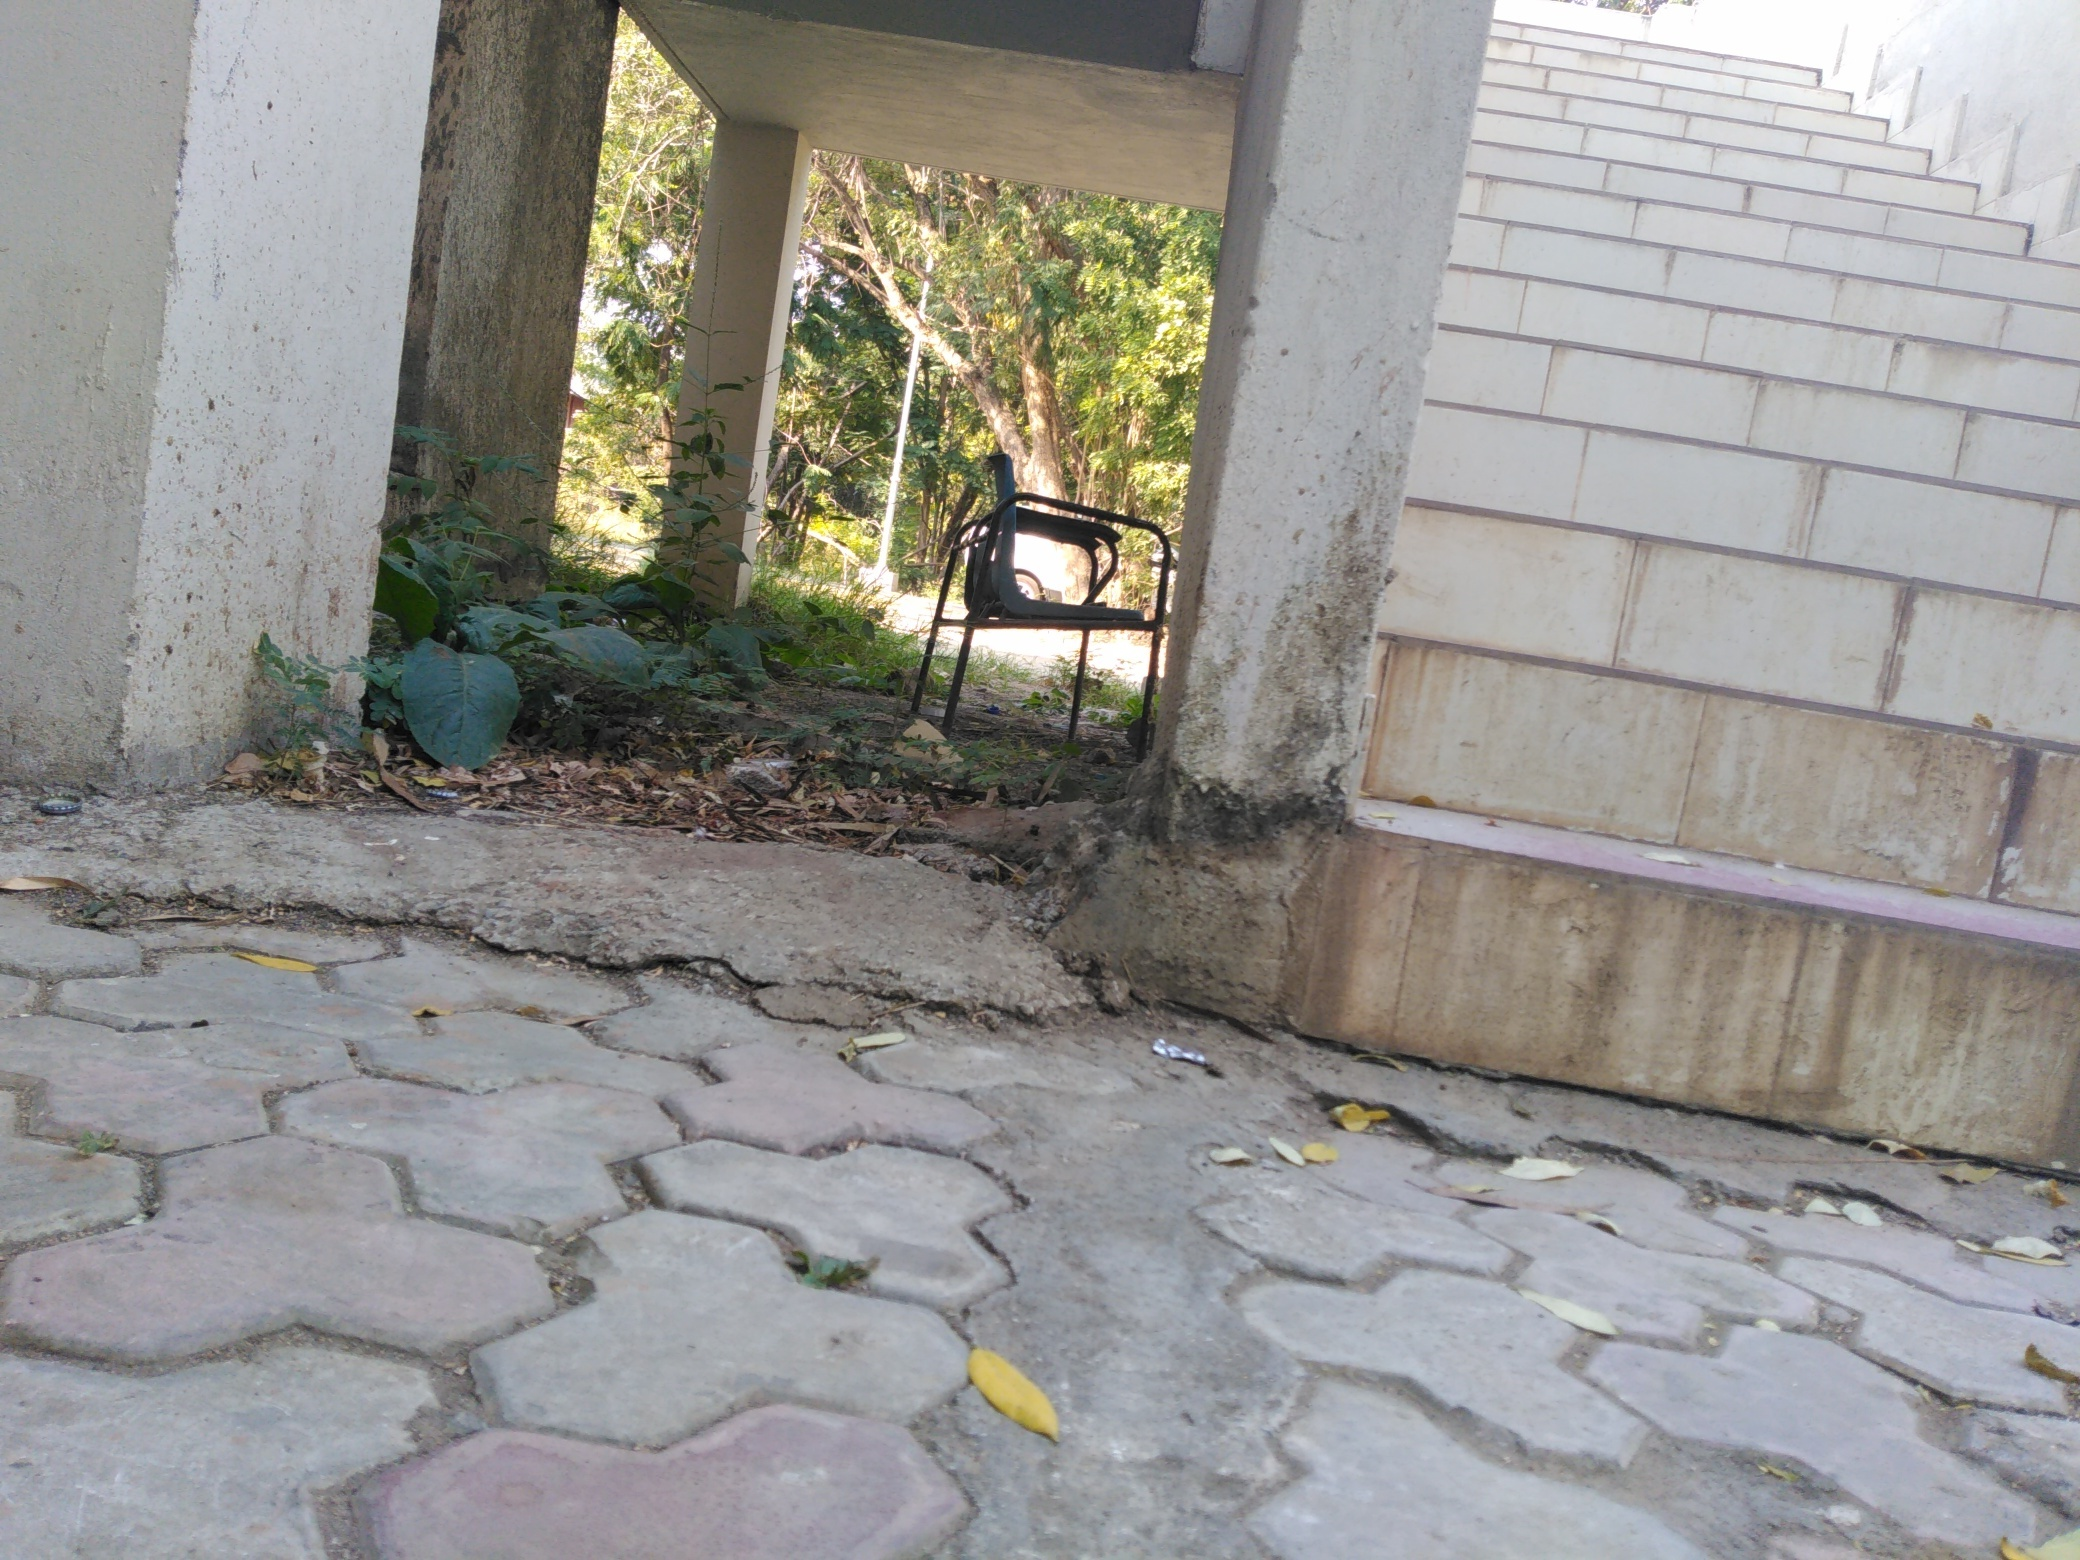stairs_up: (1354, 11, 2080, 1199)
